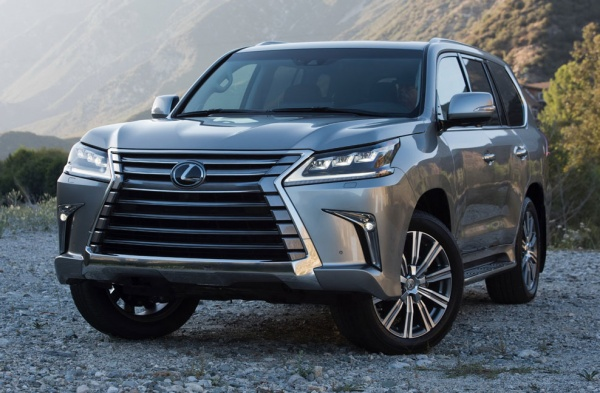pickup: (53, 39, 548, 352)
